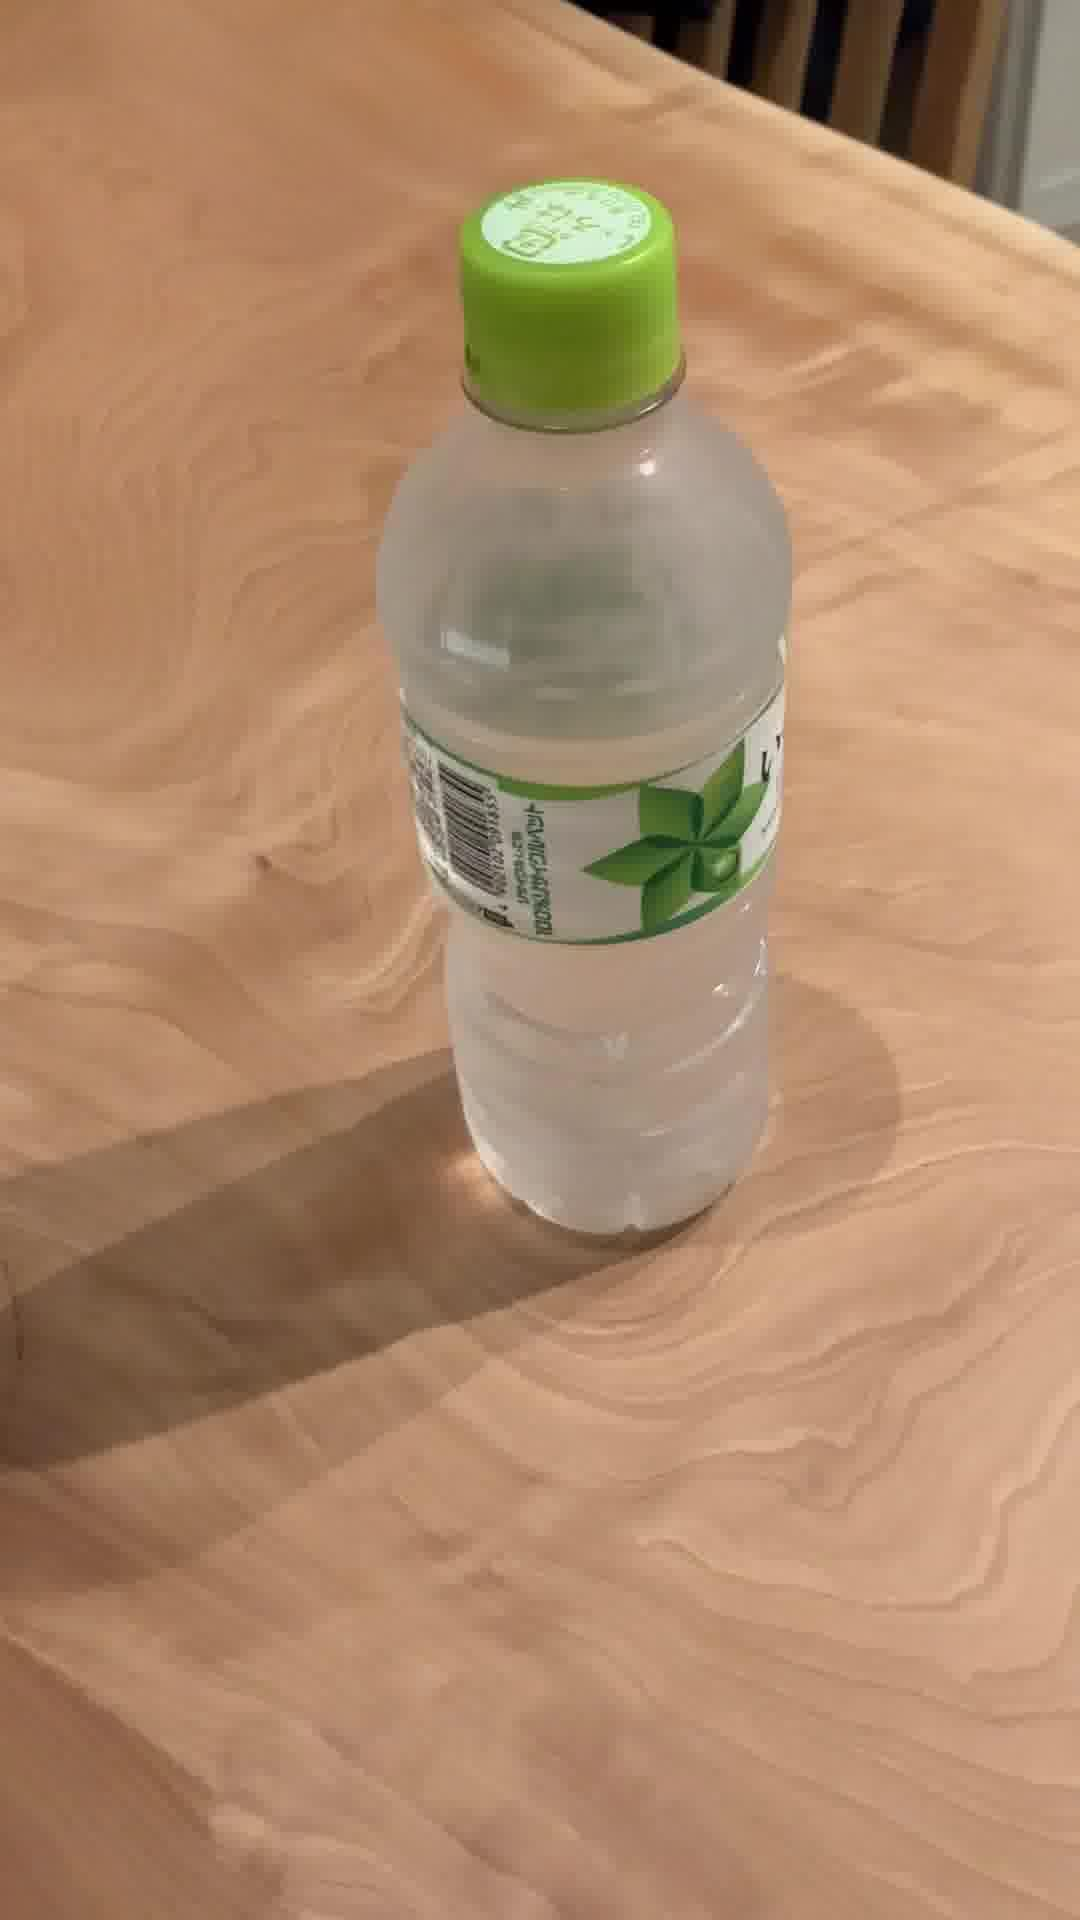BIODEGRADABLE: (375, 168, 800, 1249)
